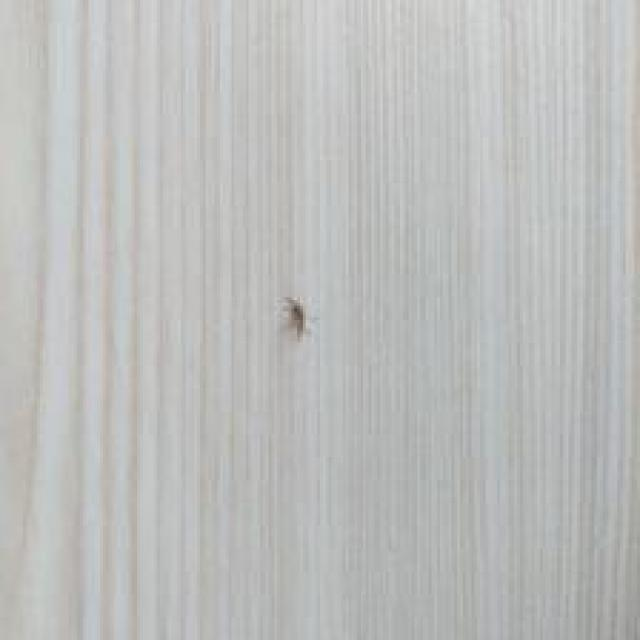Culex: (279, 294, 307, 340)
